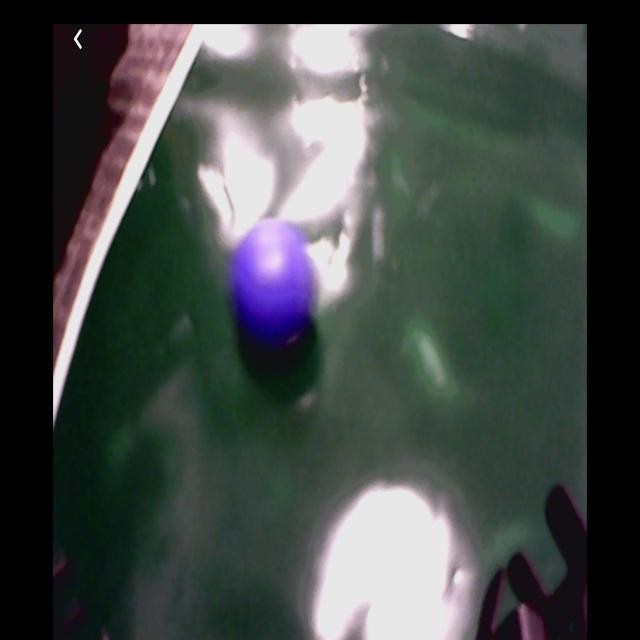ball: (234, 219, 320, 336)
